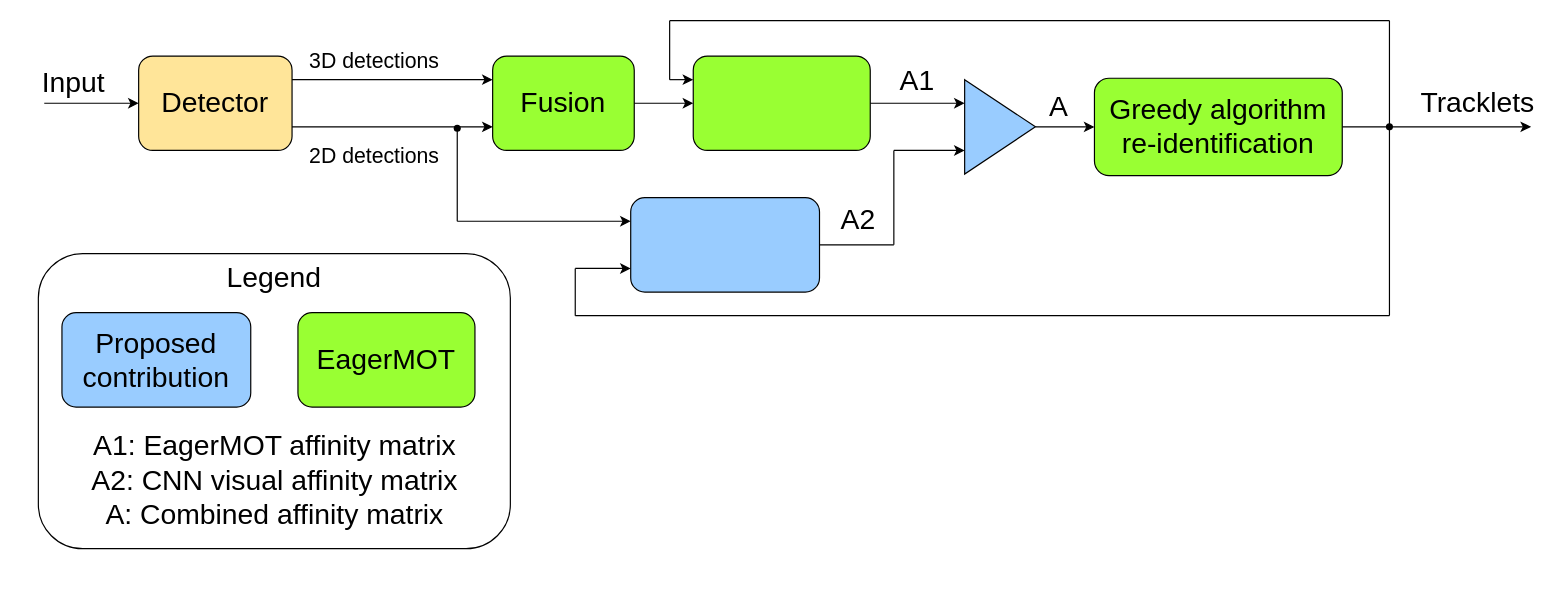
Image size: 1561x596. Some labels were removed from this diagram. Here are the shapes that lost their labels. From the top down, the box of each, then its label:
(692, 55, 870, 150): Data association
(630, 196, 820, 292): CNN
